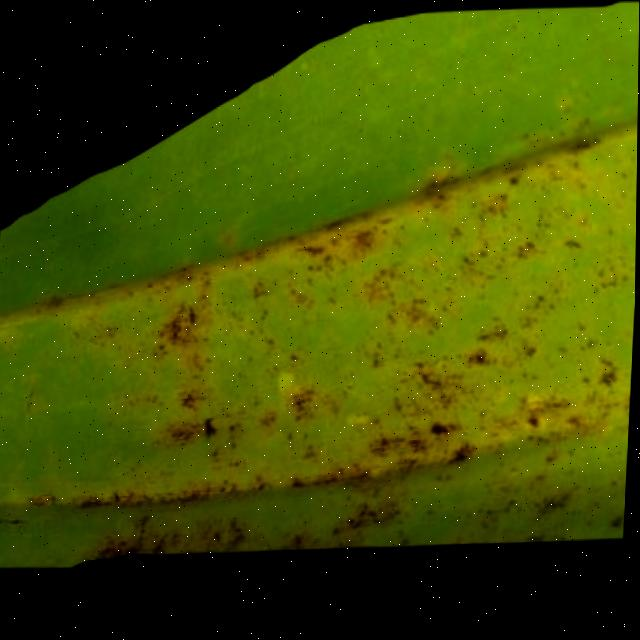mite: (146, 139, 638, 475), (0, 544, 625, 629), (607, 513, 626, 539), (431, 423, 455, 443), (204, 417, 221, 438), (564, 242, 585, 257), (611, 519, 626, 535)
